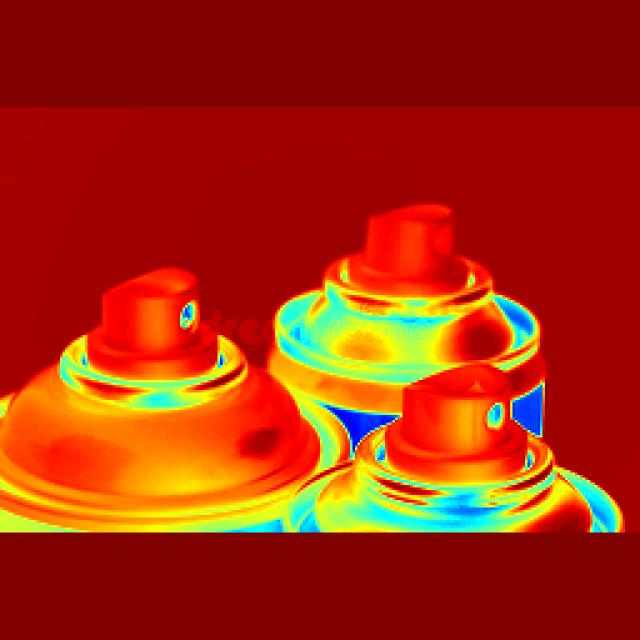Aerosol Cans: (14, 203, 620, 533)
